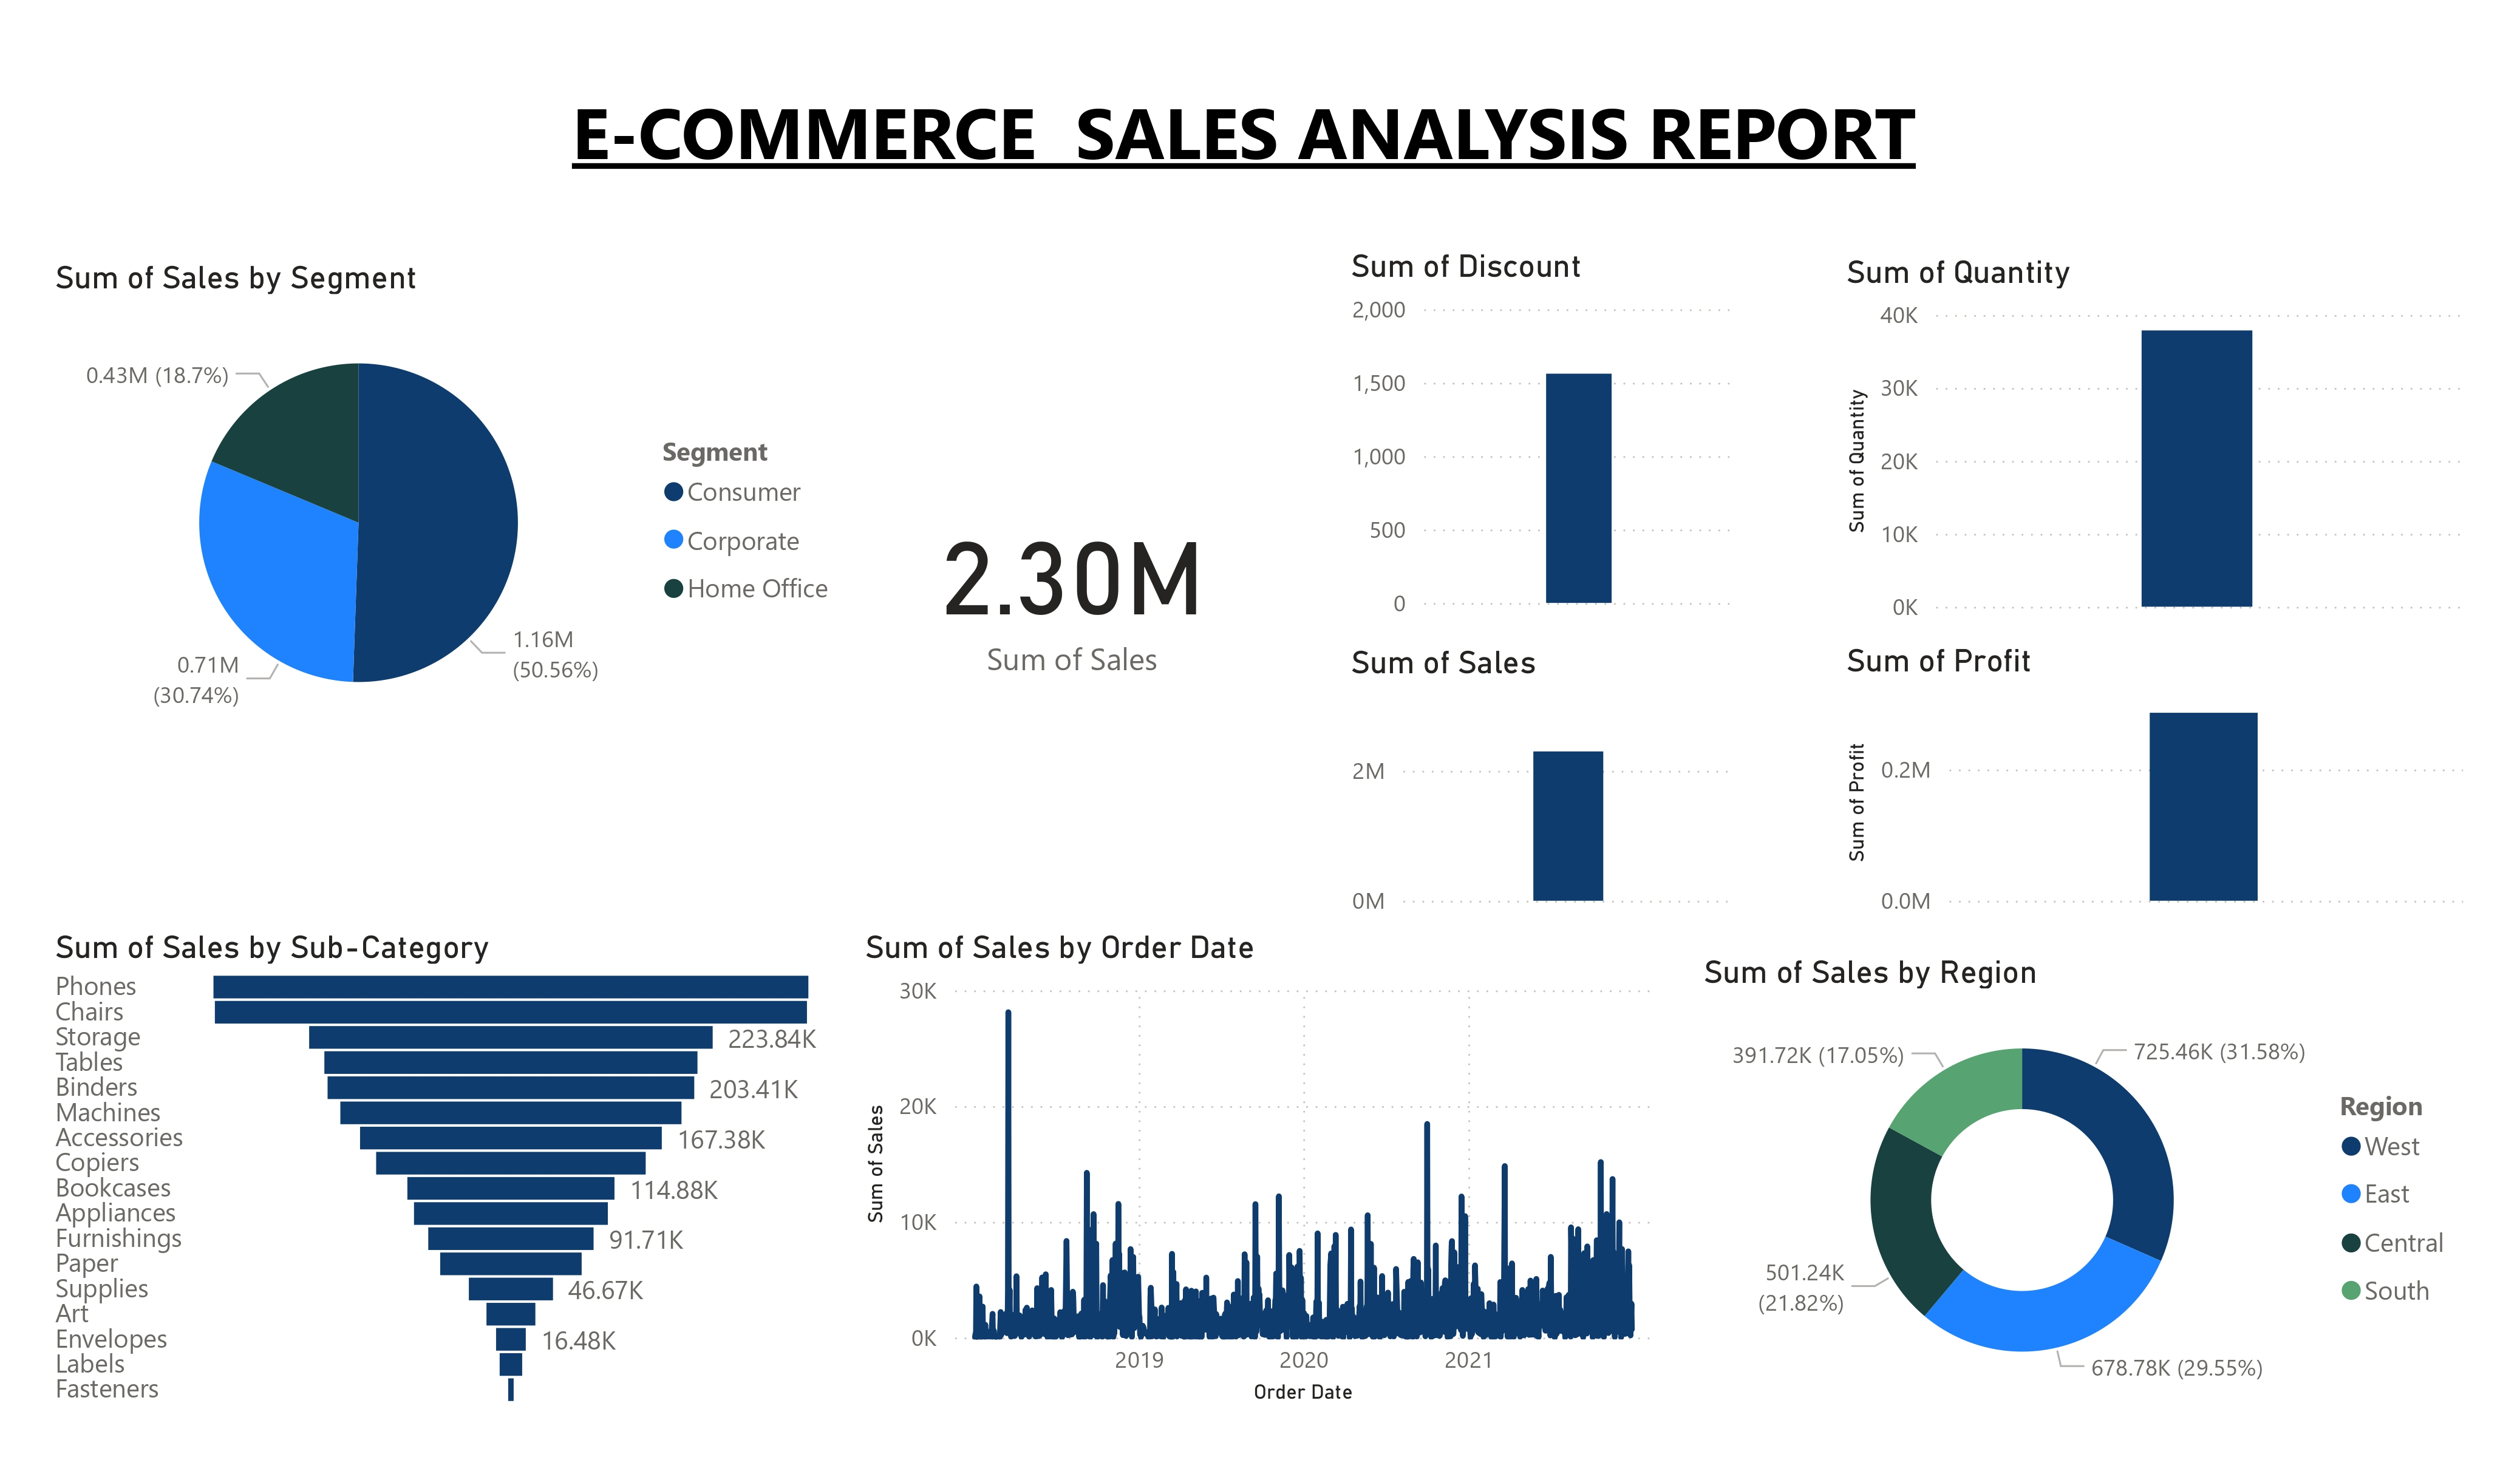

This screenshot's page, from the dashboard's own definition file:
{"tool":"powerbi","page":{"name":"Page 1","canvas":[1280,720],"ordinal":0},"visuals":[{"type":"donutChart","fields":{"Category":["Orders.Region"],"Y":["Sum(Orders.Sales)"]},"box":[869.2,478.2,410.3,242.3],"z":0},{"type":"funnel","fields":{"Category":["Orders.Sub-Category"],"Y":["Sum(Orders.Sales)"]},"box":[0,465.4,411.5,255.1],"z":1000},{"type":"pieChart","fields":{"Category":["Orders.Segment"],"Y":["Sum(Orders.Sales)"]},"box":[0,111.5,426.9,260.3],"z":2000},{"type":"lineChart","fields":{"Category":["Orders.Order Date"],"Y":["Sum(Orders.Sales)"]},"box":[426.9,465.4,426.9,255.1],"z":3000},{"type":"card","fields":{"Values":["Sum(Orders.Sales)"]},"box":[426.9,209,228.2,151.3],"z":4000},{"type":"clusteredColumnChart","fields":{"Y":["Sum(Orders.Profit)"]},"box":[943.6,314.1,335.9,151.3],"z":5000},{"type":"clusteredColumnChart","fields":{"Y":["Sum(Orders.Quantity)"]},"box":[943.6,109,335.9,201.3],"z":6000},{"type":"clusteredColumnChart","fields":{"Y":["Sum(Orders.Discount)"]},"box":[683.3,106.4,212.8,201.3],"z":7000},{"type":"clusteredColumnChart","fields":{"Y":["Sum(Orders.Sales)"]},"box":[683.3,315.4,212.8,150],"z":8000},{"type":"textbox","box":[125.6,15.4,1011.5,64.1],"z":9000}]}

Visuals, with their boxes in screenshot pixels (x1, y1, x2, y2):
donutChart - Orders.Region x Sum(Orders.Sales): (1695, 953, 2473, 1411)
funnel - Orders.Sub-Category x Sum(Orders.Sales): (46, 928, 826, 1411)
pieChart - Orders.Segment x Sum(Orders.Sales): (46, 257, 856, 751)
lineChart - Orders.Order Date x Sum(Orders.Sales): (856, 928, 1666, 1411)
card - Sum(Orders.Sales): (856, 442, 1289, 729)
clusteredColumnChart - Sum(Orders.Profit): (1836, 642, 2473, 928)
clusteredColumnChart - Sum(Orders.Quantity): (1836, 253, 2473, 634)
clusteredColumnChart - Sum(Orders.Discount): (1342, 248, 1746, 630)
clusteredColumnChart - Sum(Orders.Sales): (1342, 644, 1746, 928)
textbox: (284, 75, 2203, 196)
